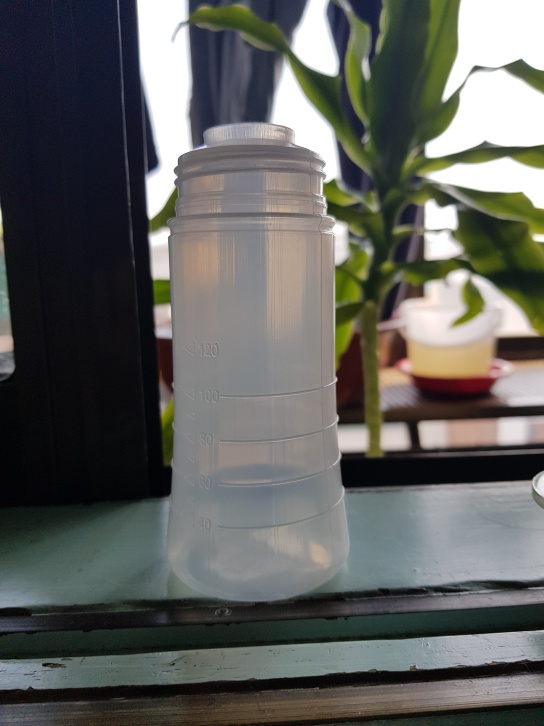Plastic: (161, 120, 353, 608)
